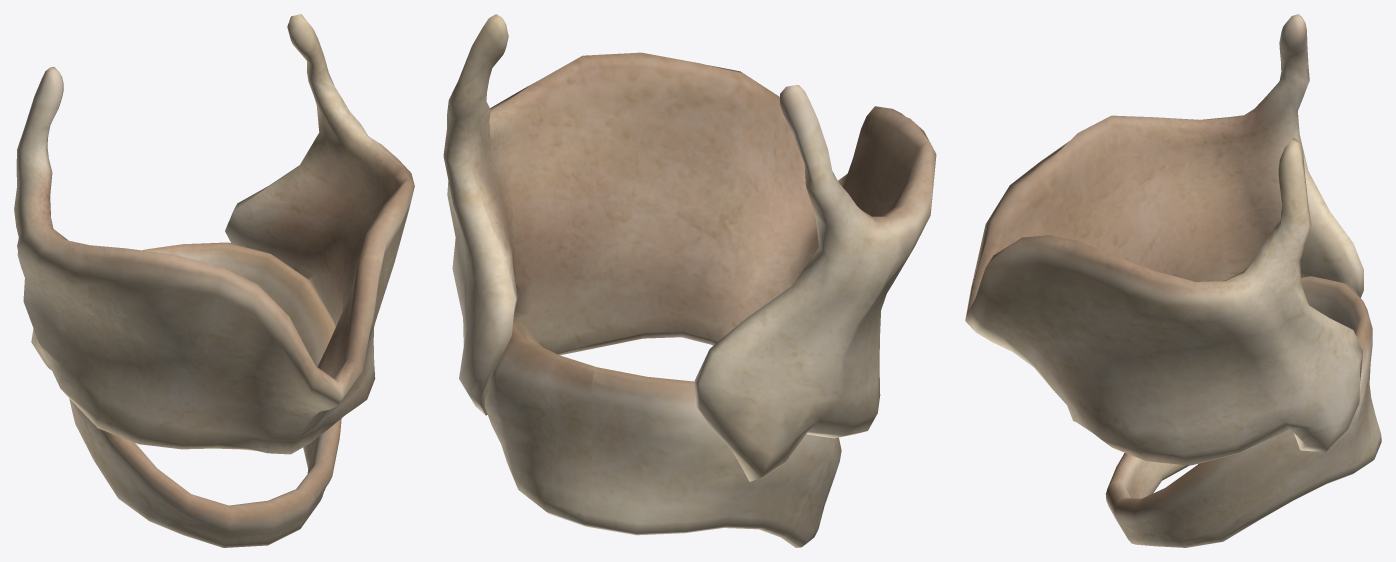
Rendered from laringe.fbx.
The picture shows the model from 3 angles, left to right: view 1: azimuth 30°, elevation 25°; view 2: azimuth 150°, elevation 25°; view 3: azimuth 270°, elevation 25°; orthographic projection. The views are drawn at different scales.
Visible parts, largest first — view 1: Laringe; view 2: Laringe; view 3: Laringe.
Boxes of the visible parts, bbox=[...] form: Laringe: bbox=[14, 14, 414, 547]; Laringe: bbox=[443, 14, 936, 547]; Laringe: bbox=[965, 14, 1381, 547].
Bounding box in the file's own units: 25.83 × 30.28 × 25.24.
Materials: 1 (1 with a texture image).
